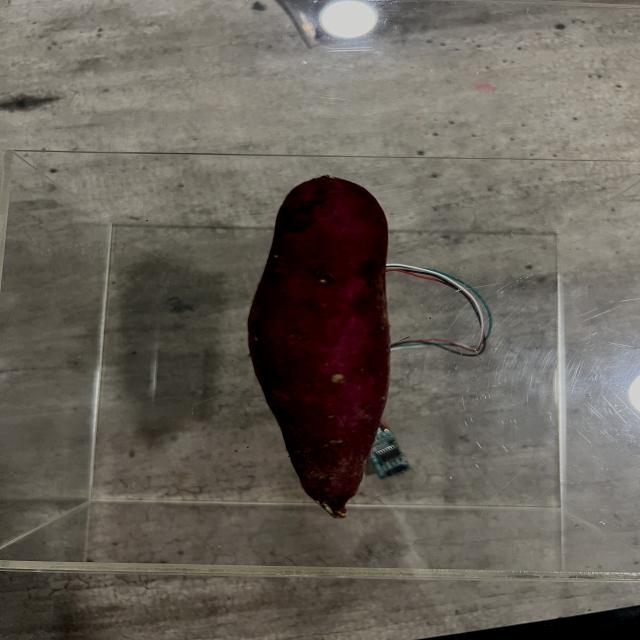sweet potato: (242, 175, 393, 522)
